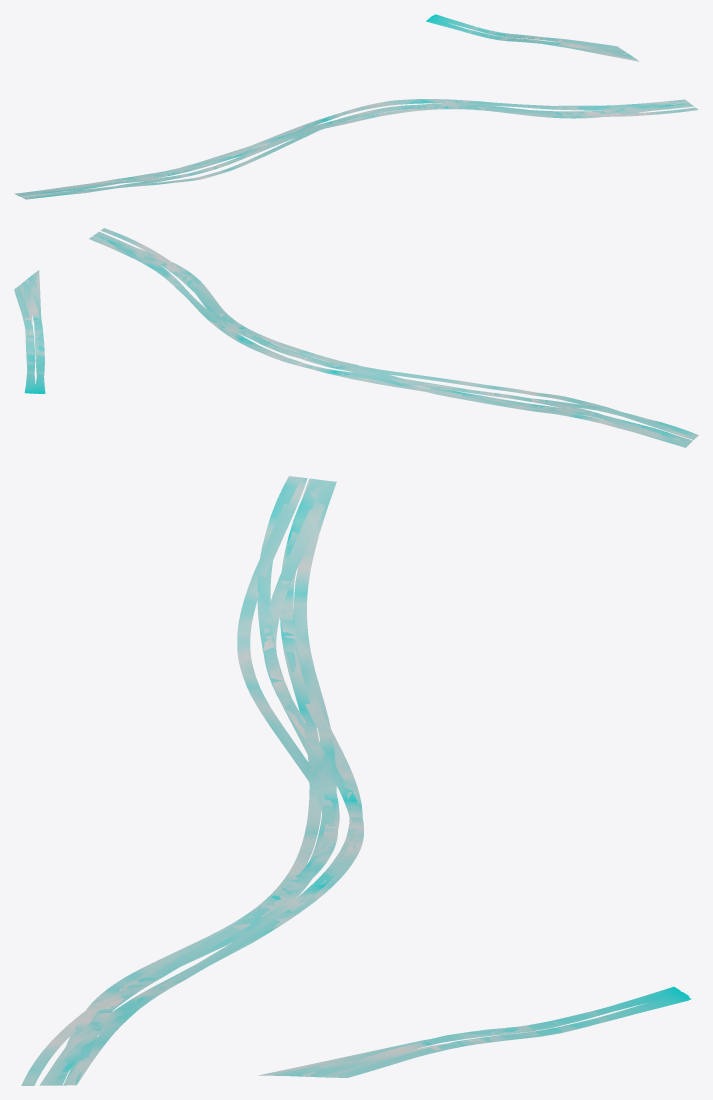
3 views of the same model, one above another, from view 1: azimuth 30°, elevation 25°; view 2: azimuth 150°, elevation 25°; view 3: azimuth 270°, elevation 25° (orthographic). The views are drawn at different scales.
Parts seen in each view (by area): view 1: SpaceCenter_Long3_GenerateRoad_Sand_TireTracks_Narrow_Mesh_x; view 2: SpaceCenter_Long3_GenerateRoad_Sand_TireTracks_Narrow_Mesh_x; view 3: SpaceCenter_Long3_GenerateRoad_Sand_TireTracks_Narrow_Mesh_x.
Boxes of the visible parts, box(x1,y1,x2,y2) form: SpaceCenter_Long3_GenerateRoad_Sand_TireTracks_Narrow_Mesh_x: box(14, 14, 698, 199); SpaceCenter_Long3_GenerateRoad_Sand_TireTracks_Narrow_Mesh_x: box(14, 228, 698, 447); SpaceCenter_Long3_GenerateRoad_Sand_TireTracks_Narrow_Mesh_x: box(21, 476, 691, 1085).
Size of the model in its own units: 1104 by 2304 by 55.17.
